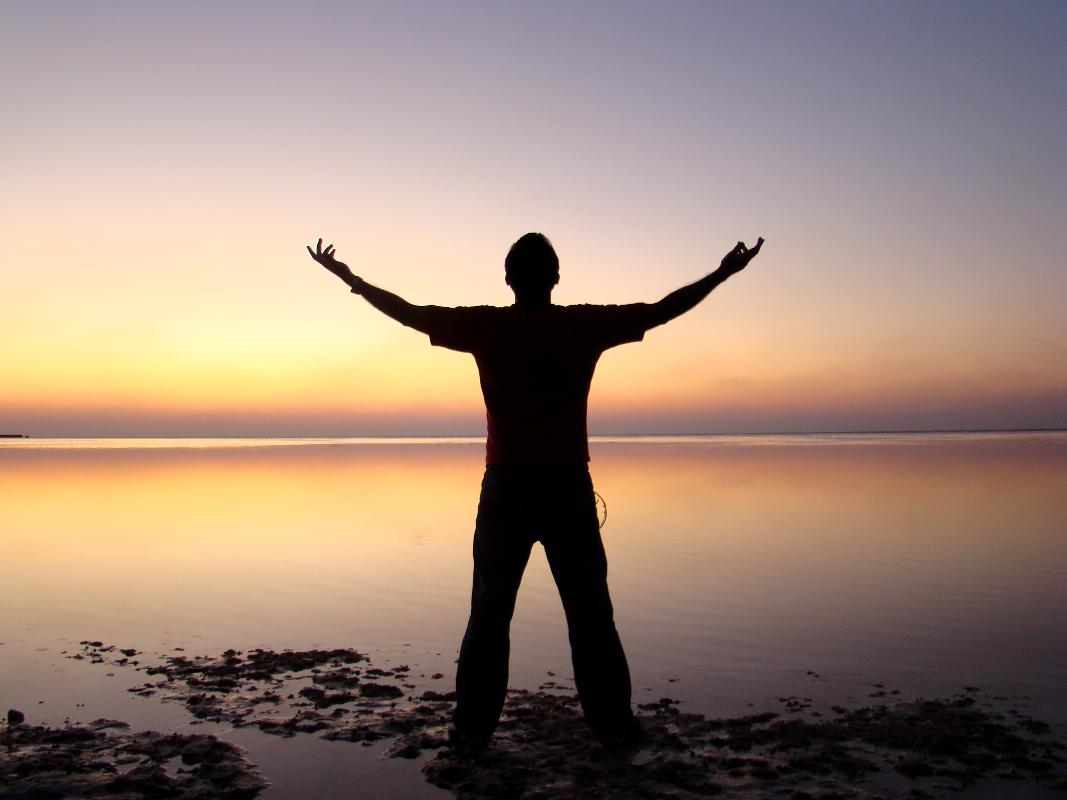Person: (306, 224, 767, 776)
